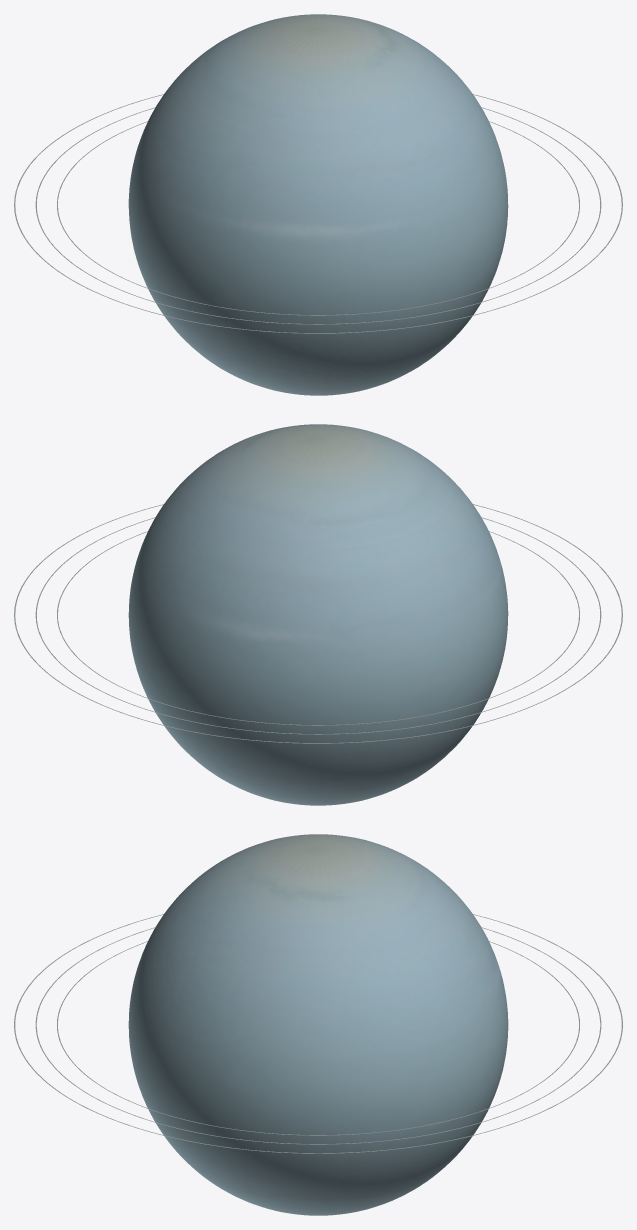
File: uranus.gltf
3 views of the same model, one above another, from view 1: azimuth 30°, elevation 25°; view 2: azimuth 150°, elevation 25°; view 3: azimuth 270°, elevation 25° (orthographic).
Parts seen in each view (by area): view 1: Sphere_2, Circle.002_5, Circle.001_4, Circle_3; view 2: Sphere_2, Circle.002_5, Circle.001_4, Circle_3; view 3: Sphere_2, Circle.002_5, Circle.001_4, Circle_3.
Boxes of the visible parts, bbox=[...] form: Sphere_2: bbox=[128, 14, 508, 395]; Circle.002_5: bbox=[14, 94, 622, 333]; Circle.001_4: bbox=[35, 107, 601, 324]; Circle_3: bbox=[57, 121, 579, 315]; Sphere_2: bbox=[128, 424, 508, 805]; Circle.002_5: bbox=[14, 504, 622, 743]; Circle.001_4: bbox=[35, 517, 601, 734]; Circle_3: bbox=[57, 531, 579, 725]; Sphere_2: bbox=[128, 834, 508, 1215]; Circle.002_5: bbox=[14, 914, 622, 1153]; Circle.001_4: bbox=[35, 927, 601, 1144]; Circle_3: bbox=[57, 941, 579, 1135].
Size of the model in its own units: 5.52 by 3.47 by 5.52.
1 material, 1 textured.
